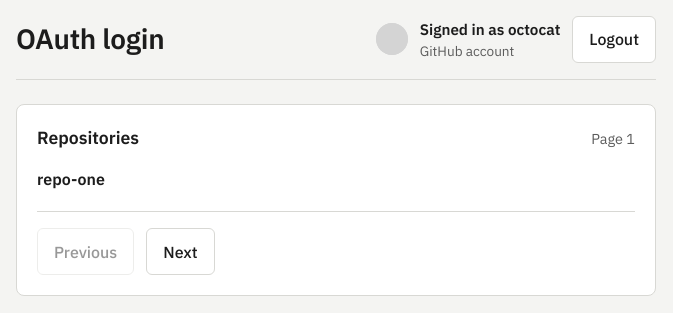
it: App › paginates repositories with Next
Expected: the link "repo-one" is shown, [37,169,105,189]
Click the button "Next". click: {"x": 180, "y": 252}
box: [146,228,215,275]
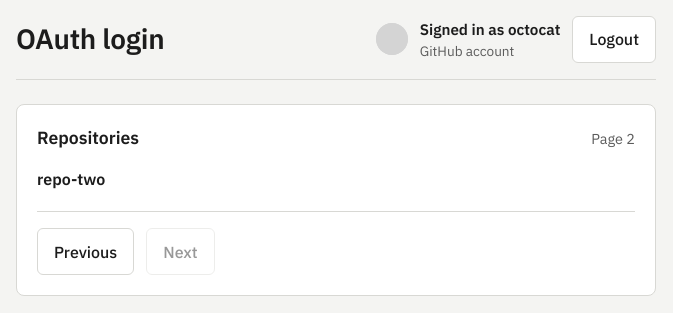
Now the link "repo-two" is shown, box [37,169,105,189]
Now the text "Page 2" is shown, box [591,128,635,149]
